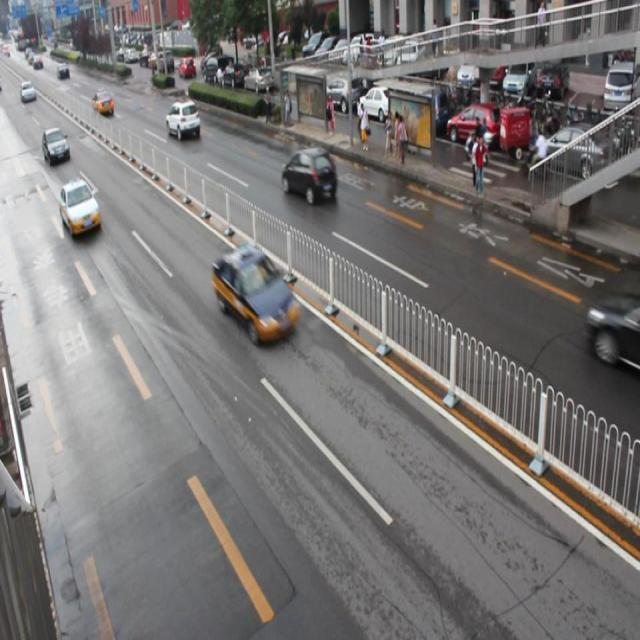car: (212, 245, 298, 345), (281, 145, 337, 205), (59, 179, 102, 239), (164, 98, 200, 141), (43, 126, 71, 168)
